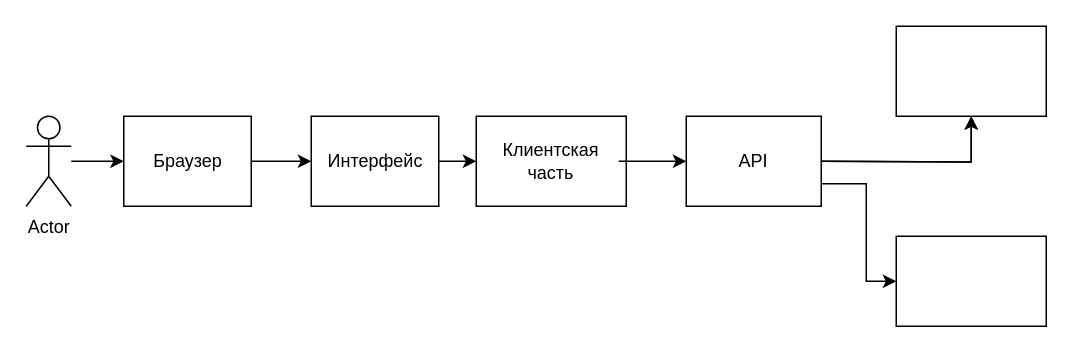
This 1073x353 diagram has some shape labels left out. The shapes that lost their labels are listed below. From the top down, each one's centre as x and y in pixels, then its label:
At point 970,70: "Хранилище".
At point 970,280: "Внешний сервис".
